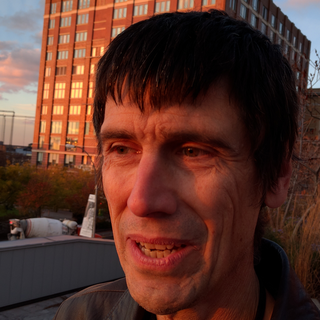eye: (169, 141, 213, 161), (102, 141, 141, 161)
